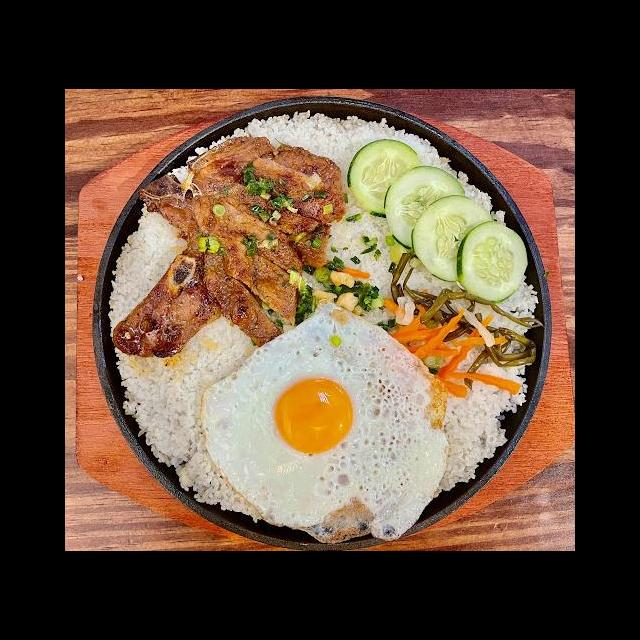com: (109, 313, 275, 527), (429, 269, 543, 501), (245, 106, 444, 192), (295, 187, 408, 332), (105, 199, 192, 340)
com suon trung: (81, 115, 552, 551)
dua chua: (378, 251, 544, 402)
suon: (110, 134, 348, 359)
trung: (196, 298, 452, 546)
